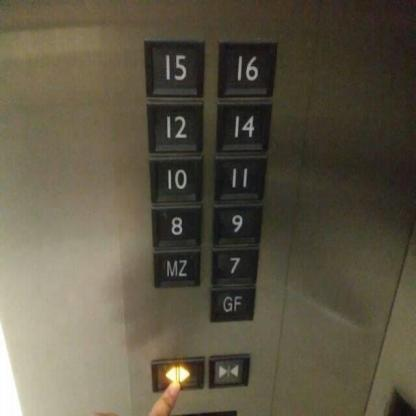10: (146, 150, 207, 205)
11: (211, 152, 268, 204)
12: (143, 97, 205, 154)
14: (211, 99, 274, 158)
15: (140, 36, 206, 100)
16: (213, 37, 276, 104)
7: (208, 244, 258, 286)
8: (148, 203, 202, 249)
9: (210, 200, 261, 246)
GF: (207, 284, 256, 324)
MZ: (151, 246, 202, 290)
close: (205, 351, 251, 388)
open: (148, 355, 204, 393)
